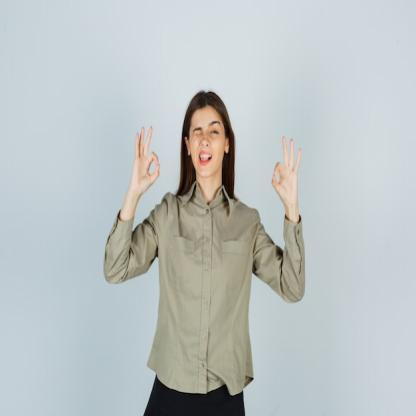ok: (269, 134, 308, 214), (132, 122, 164, 198)
